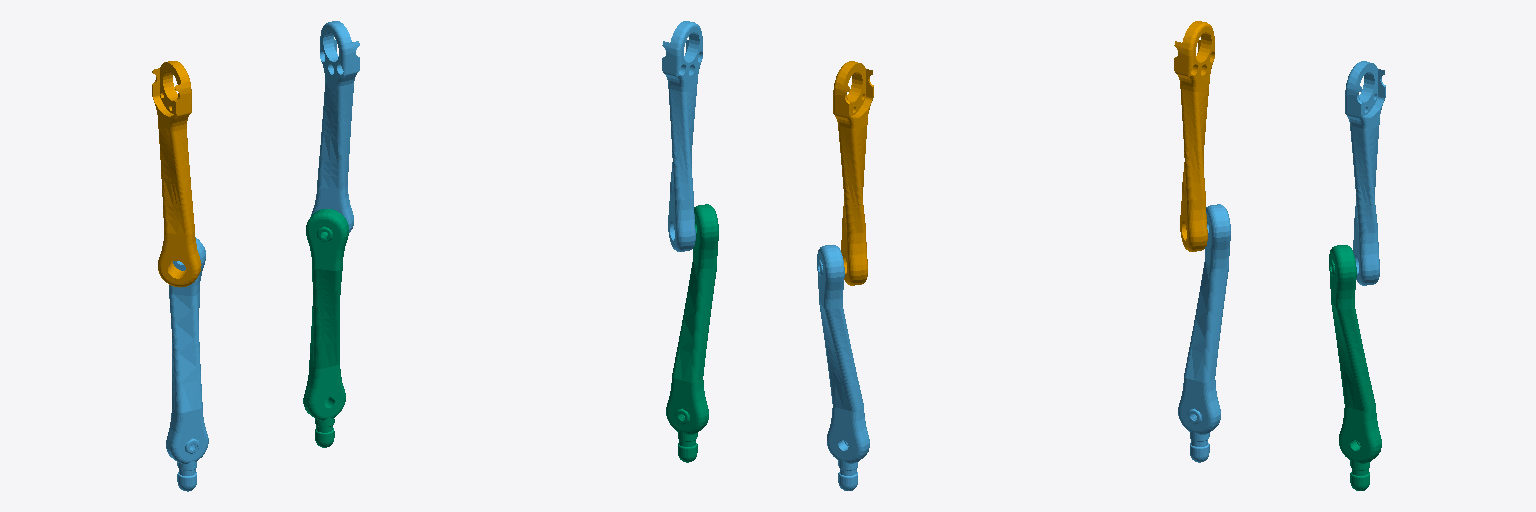
URDF robot description (robot):
<?xml version="1.0" encoding="utf-8"?>
<!-- =================================================================================== -->
<!-- |    This document was autogenerated by xacro from dual_finger.urdf.xacro         | -->
<!-- |    EDITING THIS FILE BY HAND IS NOT RECOMMENDED                                 | -->
<!-- =================================================================================== -->
<robot>
  <link name="dummy">
    <inertial>
      <mass value="0"/>
      <inertia ixx="0.0" ixy="0.0" ixz="0.0" iyy="0.0" iyz="0.0" izz="0.0"/>
    </inertial>
  </link>
  <link name="z_offset_link">
    <inertial>
      <mass value="0"/>
      <inertia ixx="0.0" ixy="0.0" ixz="0.0" iyy="0.0" iyz="0.0" izz="0.0"/>
    </inertial>
  </link>
  <joint name="z_offset" type="fixed">
    <parent link="dummy"/>
    <child link="z_offset_link"/>
    <origin rpy="0 0 0" xyz="0 0 0.30"/>
  </joint>
  <!-->

       module0  . origin  module 1


    <-->
  <link name="0-xm430_0">
    <inertial>
      <origin rpy="0 0 0" xyz="-4.0773796e-3 -1.5304911e-2 -1.6871895e-2"/>
      <mass value="0.082"/>
      <inertia ixx="2.3729564e-5" ixy="-1.3079758e-7" ixz="-8.1403365e-8" iyy="1.3112295e-5" iyz="-1.9659314e-6" izz="2.0942871e-5"/>
    </inertial>
    <visual>
      <origin rpy="0.0 0.0 0.0" xyz="0.0 0.0 0.0"/>
      <geometry>
        <mesh filename="./mesh/XM430-simplified.stl" scale="0.001 0.001 0.001"/>
      </geometry>
    </visual>
    <collision>
      <origin rpy="0.0 0.0 0.0" xyz="0.0 0.0 0.0"/>
      <geometry>
        <mesh filename="./mesh/XM430-simplified.stl" scale="0.001 0.001 0.001"/>
      </geometry>
    </collision>
  </link>
  <link name="0-xm430_1">
    <inertial>
      <origin rpy="0 0 0" xyz="-4.0773796e-3 -1.5304911e-2 -1.6871895e-2"/>
      <mass value="0.082"/>
      <inertia ixx="2.3729564e-5" ixy="-1.3079758e-7" ixz="-8.1403365e-8" iyy="1.3112295e-5" iyz="-1.9659314e-6" izz="2.0942871e-5"/>
    </inertial>
    <visual>
      <origin rpy="0.0 0.0 0.0" xyz="0.0 0.0 0.0"/>
      <geometry>
        <mesh filename="./mesh/XM430-simplified.stl" scale="0.001 0.001 0.001"/>
      </geometry>
    </visual>
    <collision>
      <origin rpy="0.0 0.0 0.0" xyz="0.0 0.0 0.0"/>
      <geometry>
        <mesh filename="./mesh/XM430-simplified.stl" scale="0.001 0.001 0.001"/>
      </geometry>
    </collision>
  </link>
  <link name="0-xm430_2">
    <inertial>
      <origin rpy="0 0 0" xyz="-4.0773796e-3 -1.5304911e-2 -1.6871895e-2"/>
      <mass value="0.082"/>
      <inertia ixx="2.3729564e-5" ixy="-1.3079758e-7" ixz="-8.1403365e-8" iyy="1.3112295e-5" iyz="-1.9659314e-6" izz="2.0942871e-5"/>
    </inertial>
    <visual>
      <origin rpy="0.0 0.0 0.0" xyz="0.0 0.0 0.0"/>
      <geometry>
        <mesh filename="./mesh/XM430-simplified.stl" scale="0.001 0.001 0.001"/>
      </geometry>
    </visual>
    <collision>
      <origin rpy="0.0 0.0 0.0" xyz="0.0 0.0 0.0"/>
      <geometry>
        <mesh filename="./mesh/XM430-simplified.stl" scale="0.001 0.001 0.001"/>
      </geometry>
    </collision>
  </link>
  <link name="0-base_motor_frame">
    <inertial>
      <origin rpy="0 0 0" xyz="6.48e-08 -0.0015864406 0.0250889877"/>
      <mass value="0.0768049156"/>
      <inertia ixx="5.65659e-05" ixy="-0.0" ixz="1e-10" iyy="5.30145e-05" iyz="1.1663e-06" izz="3.40217e-05"/>
    </inertial>
    <visual>
      <origin rpy="0 0 0" xyz="0 0 0"/>
      <geometry>
        <mesh filename="./mesh/base_motor_frame_simplified.stl" scale="0.001 0.001 0.001"/>
      </geometry>
    </visual>
    <collision>
      <origin rpy="0 0 0" xyz="0 0 0"/>
      <geometry>
        <mesh filename="./mesh/base_motor_frame_simplified.stl" scale="0.001 0.001 0.001"/>
      </geometry>
    </collision>
  </link>
  <link name="0-dual_servo_shell">
    <inertial>
      <origin rpy="0 0 0" xyz="0.0005322566 -0.0003161331 0.0506920676"/>
      <mass value="0.0258069457"/>
      <inertia ixx="4.11451e-05" ixy="7.82e-08" ixz="-7.721e-07" iyy="4.42386e-05" iyz="2.774e-07" izz="4.8477e-06"/>
    </inertial>
    <visual>
      <origin rpy="0.0 0.0 0.0" xyz="0.0 0.0 0.0"/>
      <geometry>
        <mesh filename="./mesh/dual_servo_shell_simplified.stl" scale="0.001 0.001 0.001"/>
      </geometry>
    </visual>
    <collision>
      <origin rpy="0.0 0.0 0.0" xyz="0.0 0.0 0.0"/>
      <geometry>
        <mesh filename="./mesh/dual_servo_shell_simplified.stl" scale="0.001 0.001 0.001"/>
      </geometry>
    </collision>
  </link>
  <link name="0-dual_servo_transmission">
    <inertial>
      <origin rpy="0 0 0" xyz="-1.41e-08 0.0095354556 0.0141401617"/>
      <mass value="0.0576887165"/>
      <inertia ixx="2.78223e-05" ixy="5.7e-09" ixz="-0.0" iyy="1.35978e-05" iyz="4.5419e-06" izz="2.50167e-05"/>
    </inertial>
    <visual>
      <origin rpy="0.0 0.0 0.0" xyz="0.0 0.0 0.0"/>
      <geometry>
        <mesh filename="./mesh/dual_servo_transmission_simplified.obj" scale="0.001 0.001 0.001"/>
      </geometry>
    </visual>
    <collision>
      <origin rpy="0.0 0.0 0.0" xyz="0.0 0.0 0.0"/>
      <geometry>
        <mesh filename="./mesh/dual_servo_transmission_simplified.obj" scale="0.001 0.001 0.001"/>
      </geometry>
    </collision>
  </link>
  <link name="0-finger1">
    <inertial>
      <origin rpy="0 0 0" xyz=" -0.0026344221 -0.0673645556 -0.0033892017"/>
      <mass value="0.0273686016"/>
      <inertia ixx="3.82526e-05" ixy="-1.6373e-06" ixz="-1.96e-07" iyy="1.4086e-06" iyz="4.307e-07" izz="3.86145e-05"/>
    </inertial>
    <visual>
      <origin rpy="0.0 0.0 0.0" xyz="0.0 0.0 0.0"/>
      <geometry>
        <mesh filename="./mesh/finger1.obj" scale="0.001 0.001 0.001"/>
      </geometry>
    </visual>
    <collision>
      <origin rpy="0.0 0.0 0.0" xyz="0.0 0.0 0.0"/>
      <geometry>
        <mesh filename="./mesh/finger1.obj" scale="0.001 0.001 0.001"/>
      </geometry>
    </collision>
  </link>
  <link name="0-finger2">
    <inertial>
      <origin rpy="0 0 0" xyz=" -0.0025634596 -0.0642987636 0.003878593"/>
      <mass value="0.0282885857"/>
      <inertia ixx="4.51291e-05" ixy="-1.8472e-06" ixz="1.613e-07" iyy="1.3194e-06" iyz="-1.3204e-06" izz="4.53013e-05"/>
    </inertial>
    <visual>
      <origin rpy="0.0 0.0 0.0" xyz="0.0 0.0 0.0"/>
      <geometry>
        <mesh filename="./mesh/finger2.obj" scale="0.001 0.001 0.001"/>
      </geometry>
    </visual>
    <collision>
      <origin rpy="0.0 0.0 0.0" xyz="0.0 0.0 0.0"/>
      <geometry>
        <mesh filename="./mesh/finger2.obj" scale="0.001 0.001 0.001"/>
      </geometry>
    </collision>
  </link>
  <!--Create joints to connect the parts-->
  <!--Fix the module to module parent link-->
  <joint name="0-module_to_parent" type="fixed">
    <parent link="z_offset_link"/>
    <child link="0-base_motor_frame"/>
    <origin rpy="3.14159265 0 1.570796325" xyz="-0.1 0 0"/>
  </joint>
  <!--Fix the parts which are not supposed to move-->
  <joint name="0-fix_xm430_0" type="fixed">
    <parent link="0-base_motor_frame"/>
    <child link="0-xm430_0"/>
    <origin rpy="0 0 0" xyz="0 0 0.054"/>
  </joint>
  <joint name="0-fix_xm430_1" type="fixed">
    <parent link="0-dual_servo_shell"/>
    <child link="0-xm430_1"/>
    <origin rpy="-1.570796325 0 0" xyz="0 0.019 0.0334"/>
  </joint>
  <joint name="0-fix_xm430_2" type="fixed">
    <parent link="0-xm430_1"/>
    <child link="0-xm430_2"/>
    <origin rpy="0 0 0" xyz="0 -0.0465 0"/>
  </joint>
  <joint name="0-fix_transmission" type="fixed">
    <parent link="0-xm430_2"/>
    <child link="0-dual_servo_transmission"/>
    <origin rpy="0 0 0" xyz="0 0 0"/>
  </joint>
  <!--DoFs, joints corresponding to the degrees of actuation-->
  <joint name="0-dof1" type="revolute">
    <parent link="0-xm430_0"/>
    <child link="0-dual_servo_shell"/>
    <axis xyz="0 0 -1"/>
    <limit effort="1000" lower="-3.14159265" upper="3.14159265" velocity="1000"/>
    <origin rpy="0 0 0" xyz="0 0 0"/>
  </joint>
  <joint name="0-dof2" type="revolute">
    <parent link="0-xm430_2"/>
    <child link="0-finger1"/>
    <axis xyz="0 0 -1"/>
    <limit effort="1000" lower="-1.570796325" upper="1.570796325" velocity="1000"/>
    <origin rpy="0 0 0" xyz="0 0 0.0368"/>
  </joint>
  <joint name="0-dof3" type="revolute">
    <parent link="0-finger1"/>
    <child link="0-finger2"/>
    <axis xyz="0 0 1"/>
    <limit effort="1000" lower="-2.3561944875" upper="2.3561944875" velocity="1000"/>
    <origin rpy="0 0.7853981625 0" xyz="0.0014142 -0.1 0.0014142"/>
  </joint>
  <!--frames that may be helpful-->
  <link name="0-fingertip_frame">
    <geometry>
      <origin rpy="0 0 0" xyz="0 0 0"/>
    </geometry>
  </link>
  <joint name="0-fingertip_frame_fix" type="fixed">
    <parent link="0-finger2"/>
    <child link="0-fingertip_frame"/>
    <origin rpy="0 0 0" xyz="-0.004242 -0.12 -0.004242"/>
  </joint>
  <link name="1-xm430_0">
    <inertial>
      <origin rpy="0 0 0" xyz="-4.0773796e-3 -1.5304911e-2 -1.6871895e-2"/>
      <mass value="0.082"/>
      <inertia ixx="2.3729564e-5" ixy="-1.3079758e-7" ixz="-8.1403365e-8" iyy="1.3112295e-5" iyz="-1.9659314e-6" izz="2.0942871e-5"/>
    </inertial>
    <visual>
      <origin rpy="0.0 0.0 0.0" xyz="0.0 0.0 0.0"/>
      <geometry>
        <mesh filename="./mesh/XM430-simplified.stl" scale="0.001 0.001 0.001"/>
      </geometry>
    </visual>
    <collision>
      <origin rpy="0.0 0.0 0.0" xyz="0.0 0.0 0.0"/>
      <geometry>
        <mesh filename="./mesh/XM430-simplified.stl" scale="0.001 0.001 0.001"/>
      </geometry>
    </collision>
  </link>
  <link name="1-xm430_1">
    <inertial>
      <origin rpy="0 0 0" xyz="-4.0773796e-3 -1.5304911e-2 -1.6871895e-2"/>
      <mass value="0.082"/>
      <inertia ixx="2.3729564e-5" ixy="-1.3079758e-7" ixz="-8.1403365e-8" iyy="1.3112295e-5" iyz="-1.9659314e-6" izz="2.0942871e-5"/>
    </inertial>
    <visual>
      <origin rpy="0.0 0.0 0.0" xyz="0.0 0.0 0.0"/>
      <geometry>
        <mesh filename="./mesh/XM430-simplified.stl" scale="0.001 0.001 0.001"/>
      </geometry>
    </visual>
    <collision>
      <origin rpy="0.0 0.0 0.0" xyz="0.0 0.0 0.0"/>
      <geometry>
        <mesh filename="./mesh/XM430-simplified.stl" scale="0.001 0.001 0.001"/>
      </geometry>
    </collision>
  </link>
  <link name="1-xm430_2">
    <inertial>
      <origin rpy="0 0 0" xyz="-4.0773796e-3 -1.5304911e-2 -1.6871895e-2"/>
      <mass value="0.082"/>
      <inertia ixx="2.3729564e-5" ixy="-1.3079758e-7" ixz="-8.1403365e-8" iyy="1.3112295e-5" iyz="-1.9659314e-6" izz="2.0942871e-5"/>
    </inertial>
    <visual>
      <origin rpy="0.0 0.0 0.0" xyz="0.0 0.0 0.0"/>
      <geometry>
        <mesh filename="./mesh/XM430-simplified.stl" scale="0.001 0.001 0.001"/>
      </geometry>
    </visual>
    <collision>
      <origin rpy="0.0 0.0 0.0" xyz="0.0 0.0 0.0"/>
      <geometry>
        <mesh filename="./mesh/XM430-simplified.stl" scale="0.001 0.001 0.001"/>
      </geometry>
    </collision>
  </link>
  <link name="1-base_motor_frame">
    <inertial>
      <origin rpy="0 0 0" xyz="6.48e-08 -0.0015864406 0.0250889877"/>
      <mass value="0.0768049156"/>
      <inertia ixx="5.65659e-05" ixy="-0.0" ixz="1e-10" iyy="5.30145e-05" iyz="1.1663e-06" izz="3.40217e-05"/>
    </inertial>
    <visual>
      <origin rpy="0 0 0" xyz="0 0 0"/>
      <geometry>
        <mesh filename="./mesh/base_motor_frame_simplified.stl" scale="0.001 0.001 0.001"/>
      </geometry>
    </visual>
    <collision>
      <origin rpy="0 0 0" xyz="0 0 0"/>
      <geometry>
        <mesh filename="./mesh/base_motor_frame_simplified.stl" scale="0.001 0.001 0.001"/>
      </geometry>
    </collision>
  </link>
  <link name="1-dual_servo_shell">
    <inertial>
      <origin rpy="0 0 0" xyz="0.0005322566 -0.0003161331 0.0506920676"/>
      <mass value="0.0258069457"/>
      <inertia ixx="4.11451e-05" ixy="7.82e-08" ixz="-7.721e-07" iyy="4.42386e-05" iyz="2.774e-07" izz="4.8477e-06"/>
    </inertial>
    <visual>
      <origin rpy="0.0 0.0 0.0" xyz="0.0 0.0 0.0"/>
      <geometry>
        <mesh filename="./mesh/dual_servo_shell_simplified.stl" scale="0.001 0.001 0.001"/>
      </geometry>
    </visual>
    <collision>
      <origin rpy="0.0 0.0 0.0" xyz="0.0 0.0 0.0"/>
      <geometry>
        <mesh filename="./mesh/dual_servo_shell_simplified.stl" scale="0.001 0.001 0.001"/>
      </geometry>
    </collision>
  </link>
  <link name="1-dual_servo_transmission">
    <inertial>
      <origin rpy="0 0 0" xyz="-1.41e-08 0.0095354556 0.0141401617"/>
      <mass value="0.0576887165"/>
      <inertia ixx="2.78223e-05" ixy="5.7e-09" ixz="-0.0" iyy="1.35978e-05" iyz="4.5419e-06" izz="2.50167e-05"/>
    </inertial>
    <visual>
      <origin rpy="0.0 0.0 0.0" xyz="0.0 0.0 0.0"/>
      <geometry>
        <mesh filename="./mesh/dual_servo_transmission_simplified.obj" scale="0.001 0.001 0.001"/>
      </geometry>
    </visual>
    <collision>
      <origin rpy="0.0 0.0 0.0" xyz="0.0 0.0 0.0"/>
      <geometry>
        <mesh filename="./mesh/dual_servo_transmission_simplified.obj" scale="0.001 0.001 0.001"/>
      </geometry>
    </collision>
  </link>
  <link name="1-finger1">
    <inertial>
      <origin rpy="0 0 0" xyz=" -0.0026344221 -0.0673645556 -0.0033892017"/>
      <mass value="0.0273686016"/>
      <inertia ixx="3.82526e-05" ixy="-1.6373e-06" ixz="-1.96e-07" iyy="1.4086e-06" iyz="4.307e-07" izz="3.86145e-05"/>
    </inertial>
    <visual>
      <origin rpy="0.0 0.0 0.0" xyz="0.0 0.0 0.0"/>
      <geometry>
        <mesh filename="./mesh/finger1.obj" scale="0.001 0.001 0.001"/>
      </geometry>
    </visual>
    <collision>
      <origin rpy="0.0 0.0 0.0" xyz="0.0 0.0 0.0"/>
      <geometry>
        <mesh filename="./mesh/finger1.obj" scale="0.001 0.001 0.001"/>
      </geometry>
    </collision>
  </link>
  <link name="1-finger2">
    <inertial>
      <origin rpy="0 0 0" xyz=" -0.0025634596 -0.0642987636 0.003878593"/>
      <mass value="0.0282885857"/>
      <inertia ixx="4.51291e-05" ixy="-1.8472e-06" ixz="1.613e-07" iyy="1.3194e-06" iyz="-1.3204e-06" izz="4.53013e-05"/>
    </inertial>
    <visual>
      <origin rpy="0.0 0.0 0.0" xyz="0.0 0.0 0.0"/>
      <geometry>
        <mesh filename="./mesh/finger2.obj" scale="0.001 0.001 0.001"/>
      </geometry>
    </visual>
    <collision>
      <origin rpy="0.0 0.0 0.0" xyz="0.0 0.0 0.0"/>
      <geometry>
        <mesh filename="./mesh/finger2.obj" scale="0.001 0.001 0.001"/>
      </geometry>
    </collision>
  </link>
  <!--Create joints to connect the parts-->
  <!--Fix the module to module parent link-->
  <joint name="1-module_to_parent" type="fixed">
    <parent link="z_offset_link"/>
    <child link="1-base_motor_frame"/>
    <origin rpy="3.14159265 0 -1.570796325" xyz="0.1 0 0"/>
  </joint>
  <!--Fix the parts which are not supposed to move-->
  <joint name="1-fix_xm430_0" type="fixed">
    <parent link="1-base_motor_frame"/>
    <child link="1-xm430_0"/>
    <origin rpy="0 0 0" xyz="0 0 0.054"/>
  </joint>
  <joint name="1-fix_xm430_1" type="fixed">
    <parent link="1-dual_servo_shell"/>
    <child link="1-xm430_1"/>
    <origin rpy="-1.570796325 0 0" xyz="0 0.019 0.0334"/>
  </joint>
  <joint name="1-fix_xm430_2" type="fixed">
    <parent link="1-xm430_1"/>
    <child link="1-xm430_2"/>
    <origin rpy="0 0 0" xyz="0 -0.0465 0"/>
  </joint>
  <joint name="1-fix_transmission" type="fixed">
    <parent link="1-xm430_2"/>
    <child link="1-dual_servo_transmission"/>
    <origin rpy="0 0 0" xyz="0 0 0"/>
  </joint>
  <!--DoFs, joints corresponding to the degrees of actuation-->
  <joint name="1-dof1" type="revolute">
    <parent link="1-xm430_0"/>
    <child link="1-dual_servo_shell"/>
    <axis xyz="0 0 -1"/>
    <limit effort="1000" lower="-3.14159265" upper="3.14159265" velocity="1000"/>
    <origin rpy="0 0 0" xyz="0 0 0"/>
  </joint>
  <joint name="1-dof2" type="revolute">
    <parent link="1-xm430_2"/>
    <child link="1-finger1"/>
    <axis xyz="0 0 -1"/>
    <limit effort="1000" lower="-1.570796325" upper="1.570796325" velocity="1000"/>
    <origin rpy="0 0 0" xyz="0 0 0.0368"/>
  </joint>
  <joint name="1-dof3" type="revolute">
    <parent link="1-finger1"/>
    <child link="1-finger2"/>
    <axis xyz="0 0 1"/>
    <limit effort="1000" lower="-2.3561944875" upper="2.3561944875" velocity="1000"/>
    <origin rpy="0 0.7853981625 0" xyz="0.0014142 -0.1 0.0014142"/>
  </joint>
  <!--frames that may be helpful-->
  <link name="1-fingertip_frame">
    <geometry>
      <origin rpy="0 0 0" xyz="0 0 0"/>
    </geometry>
  </link>
  <joint name="1-fingertip_frame_fix" type="fixed">
    <parent link="1-finger2"/>
    <child link="1-fingertip_frame"/>
    <origin rpy="0 0 0" xyz="-0.004242 -0.12 -0.004242"/>
  </joint>
</robot>

--- What the picture shows (computed from the rendered views, not written in the file) ---
The picture shows the robot from 3 angles, left to right: view 1: azimuth 30°, elevation 25°; view 2: azimuth 150°, elevation 25°; view 3: azimuth 330°, elevation 25°; orthographic projection.
Model robot with 20 links and 19 joints (6 revolute, 13 fixed), rooted at dummy, posed every joint at zero.
Visible links, largest first — view 1: 1-finger2, 0-finger1, 0-finger2, 1-finger1; view 2: 1-finger2, 0-finger2, 1-finger1, 0-finger1; view 3: 0-finger2, 1-finger2, 0-finger1, 1-finger1.
Link boxes in pixels (x1=…): 1-finger2: x1=303, y1=209, x2=348, y2=447; 0-finger1: x1=152, y1=61, x2=201, y2=287; 0-finger2: x1=166, y1=237, x2=208, y2=491; 1-finger1: x1=311, y1=21, x2=359, y2=232; 1-finger2: x1=666, y1=204, x2=718, y2=462; 0-finger2: x1=817, y1=245, x2=869, y2=490; 1-finger1: x1=662, y1=21, x2=702, y2=251; 0-finger1: x1=833, y1=61, x2=873, y2=285; 0-finger2: x1=1178, y1=204, x2=1230, y2=462; 1-finger2: x1=1329, y1=245, x2=1381, y2=490; 0-finger1: x1=1174, y1=21, x2=1214, y2=251; 1-finger1: x1=1345, y1=61, x2=1385, y2=285.
Bounding box of the posed robot: 0.115 × 0.03 × 0.2395 m (x, y, z).
4 mesh visuals loaded from 6 distinct referenced files (2 OBJ); not drawn: 12 (reference not matched to a file when rendering).